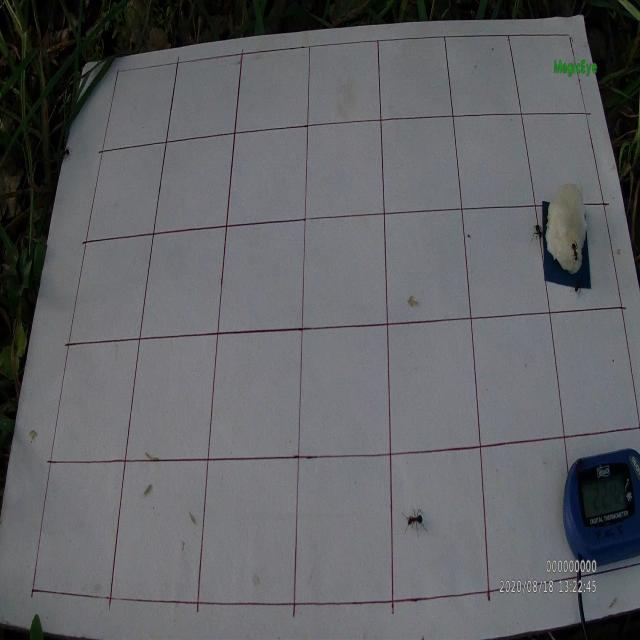Ant: (401, 505, 427, 537), (568, 270, 586, 299), (567, 237, 579, 263), (532, 223, 544, 243), (59, 146, 72, 162), (543, 208, 551, 231)
